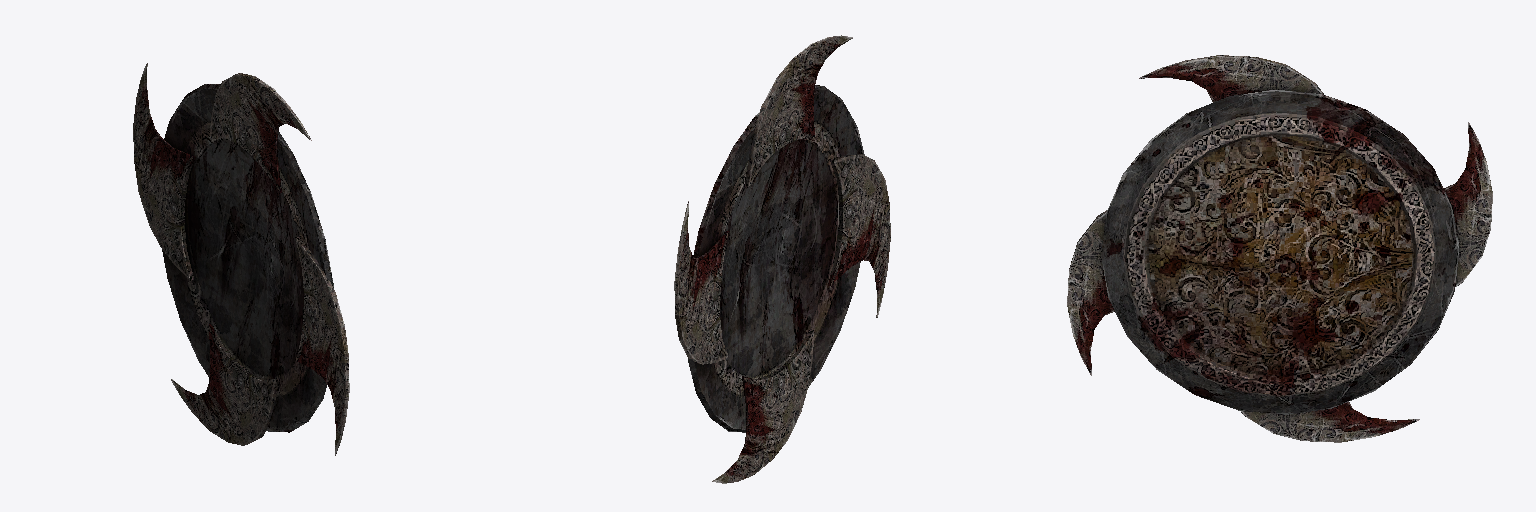
3 renders of one model, left to right at view 1: azimuth 30°, elevation 25°; view 2: azimuth 150°, elevation 25°; view 3: azimuth 270°, elevation 25°, orthographic.
Visible parts, largest first — view 1: rdmobj00.007; view 2: rdmobj00.007; view 3: rdmobj00.007.
Part boxes in pixels (x1,y1,x2,y2): rdmobj00.007: (133,63,349,455); rdmobj00.007: (674,35,890,483); rdmobj00.007: (1067,55,1492,442).
Size of the model in its own units: 0.2175 by 2.43 by 2.43.
1 materials, 1 textured.